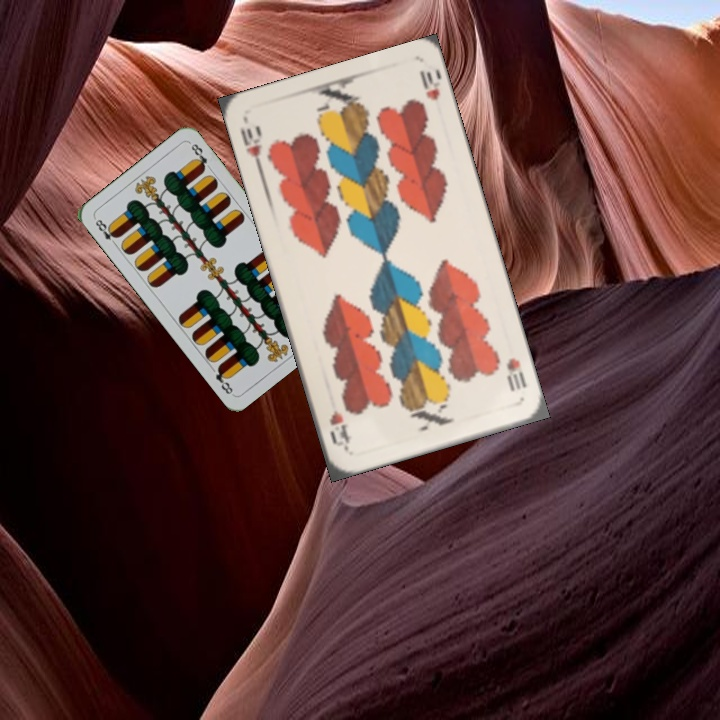E8: (90, 214, 121, 249)
H10: (236, 122, 266, 174), (502, 354, 529, 394)
